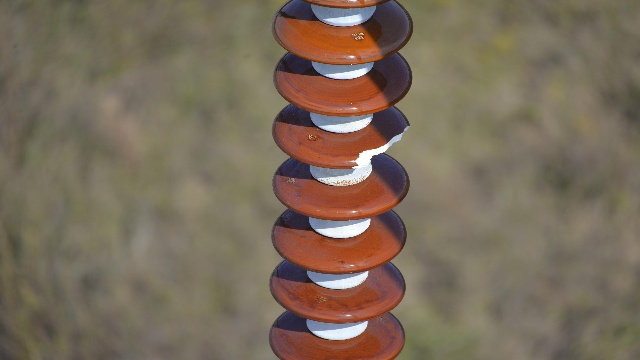broken_local: (353, 122, 411, 171)
insulator_unspecified: (271, 0, 412, 358)
